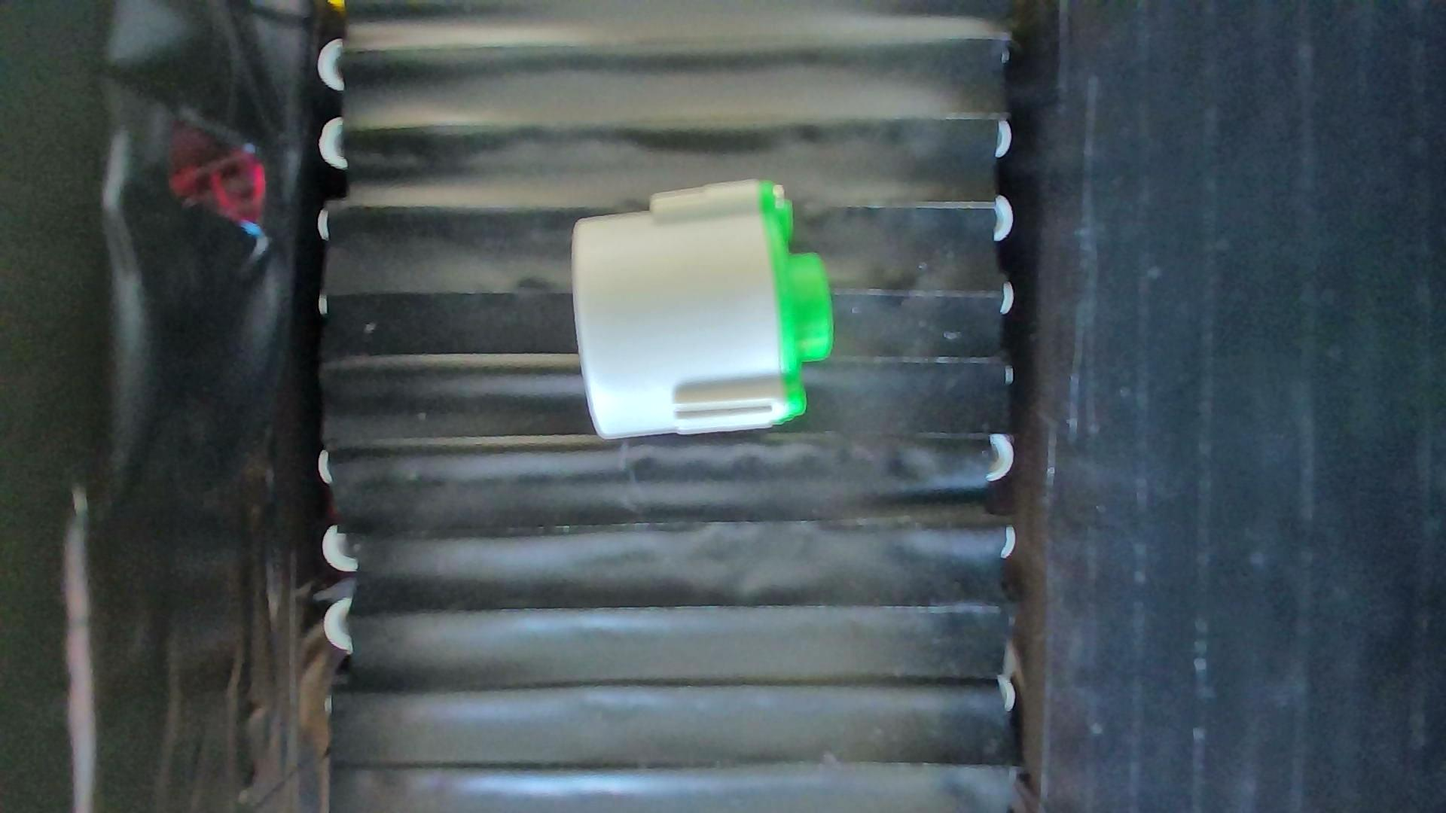cartridge: (572, 179, 833, 441)
